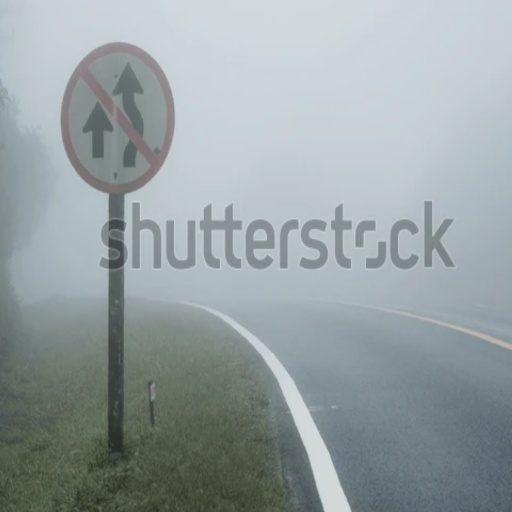No overtake from right: (55, 37, 171, 191)
